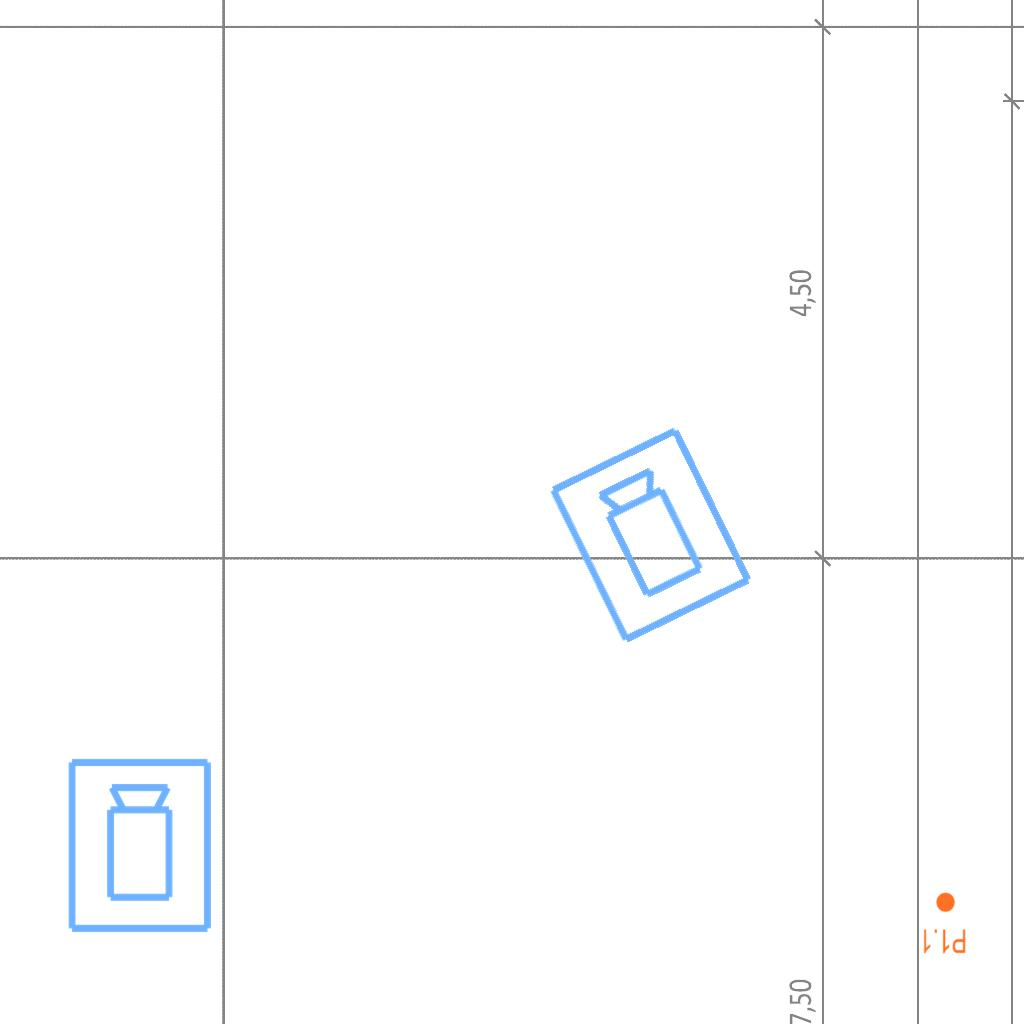Downlight_LED_Einbauleuchten_Flur: (921, 891, 967, 955)
KFO_Kamera_mit_Festobjektiv: (542, 419, 762, 651), (64, 755, 218, 937)
